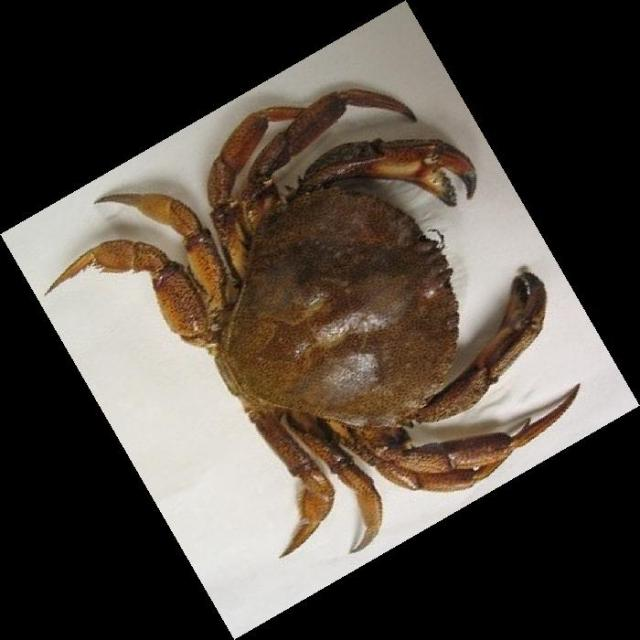Native Rock crab: (48, 88, 579, 556)
